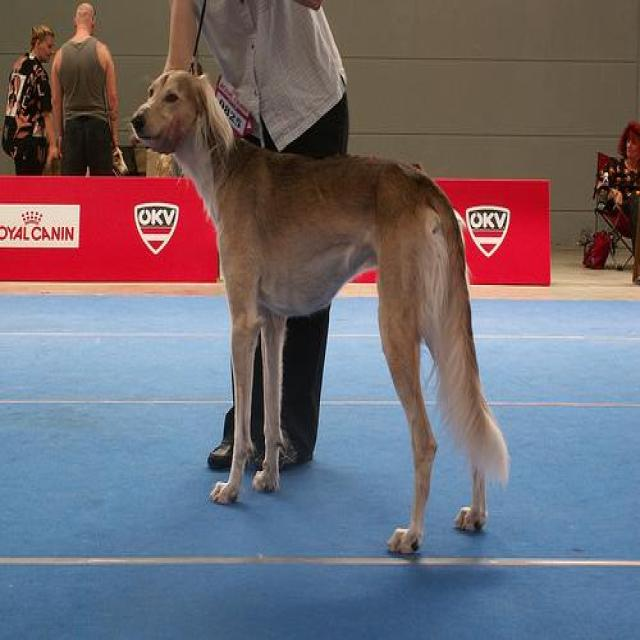saluki: (130, 72, 510, 556)
